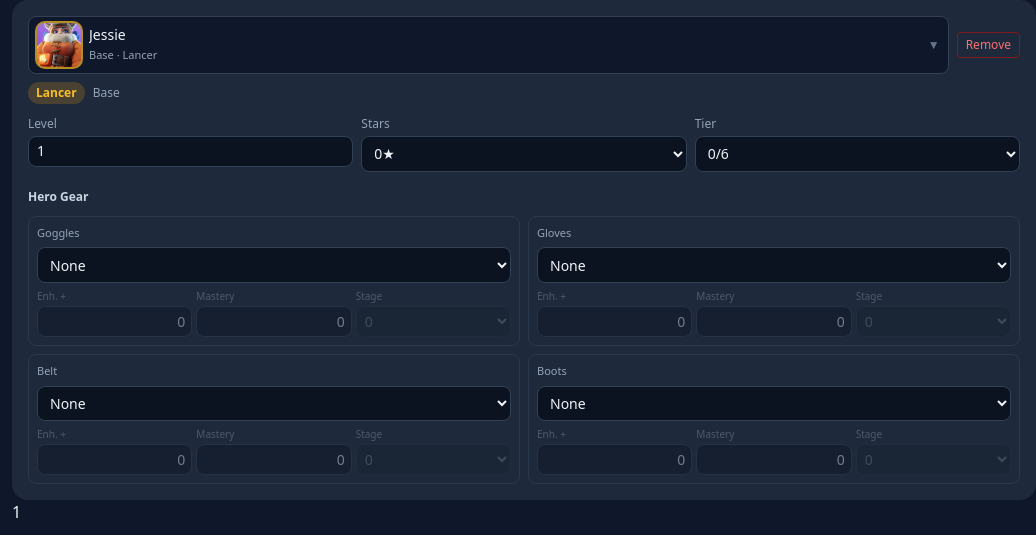
Hero Level input (tests A–G) › E: 99 is kept while typing, and becomes 80 on commit
Replace the text in the field labelled "Level" with "9" at (191,151), box [28,136,353,167]
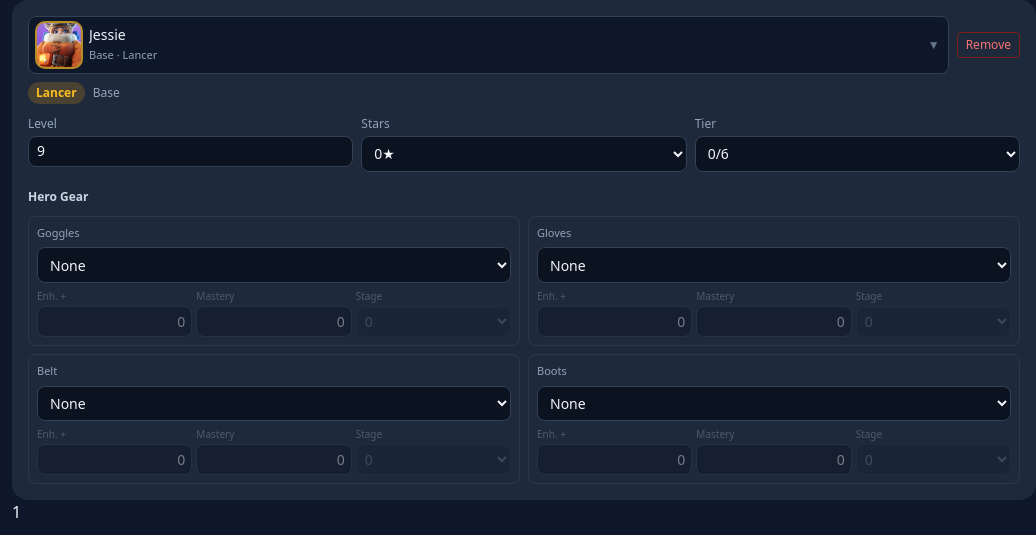
Replace the text in the field labelled "Level" with "99" at (191,151), box [28,136,353,167]
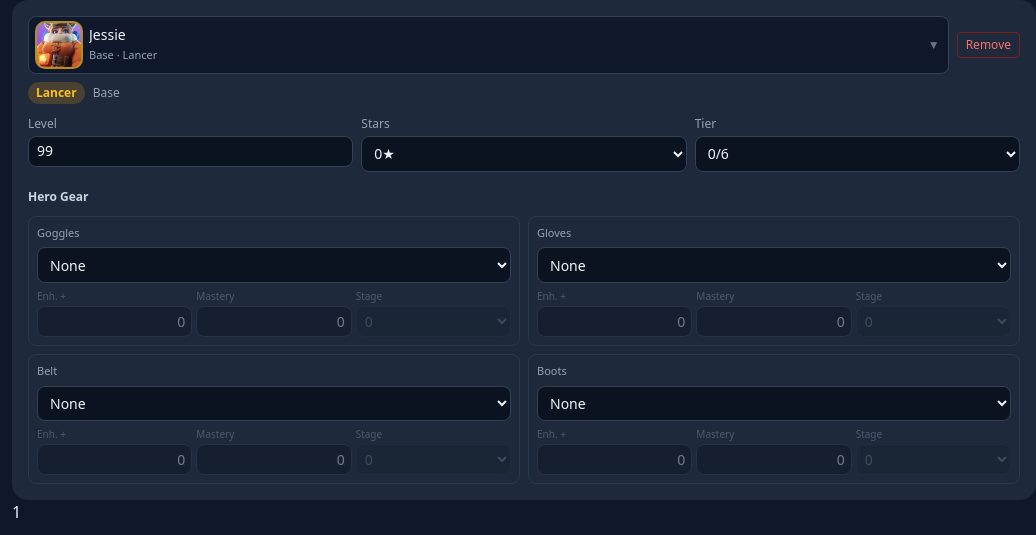
Leave the field labelled "Level", box [28,136,353,167]
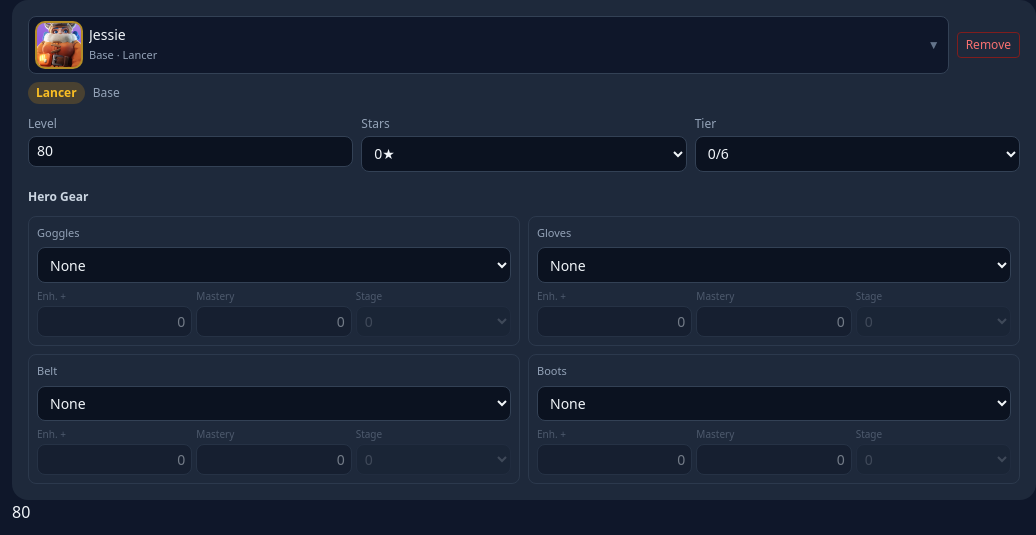
expect the field labelled "Level" holds "80": met, box [28,136,353,167]
